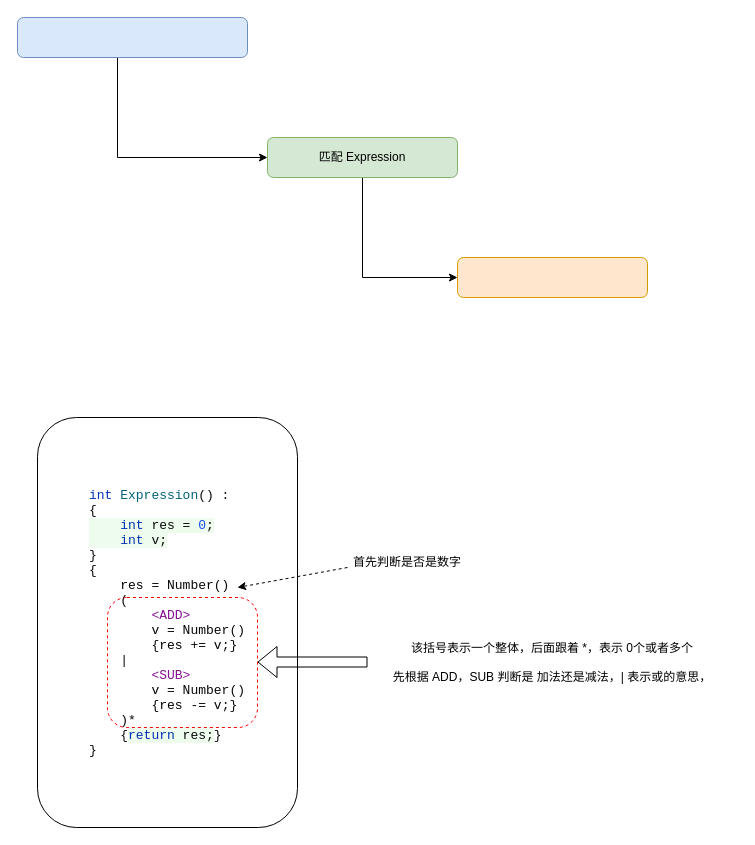
The diagram is 755 pixels wide and 845 high, and some of its shapes have lost their labels. Each missing label, with the box of its shape:
void SelectExpr (String sql): (16, 16, 248, 58)
匹配 Number: (456, 256, 648, 298)
